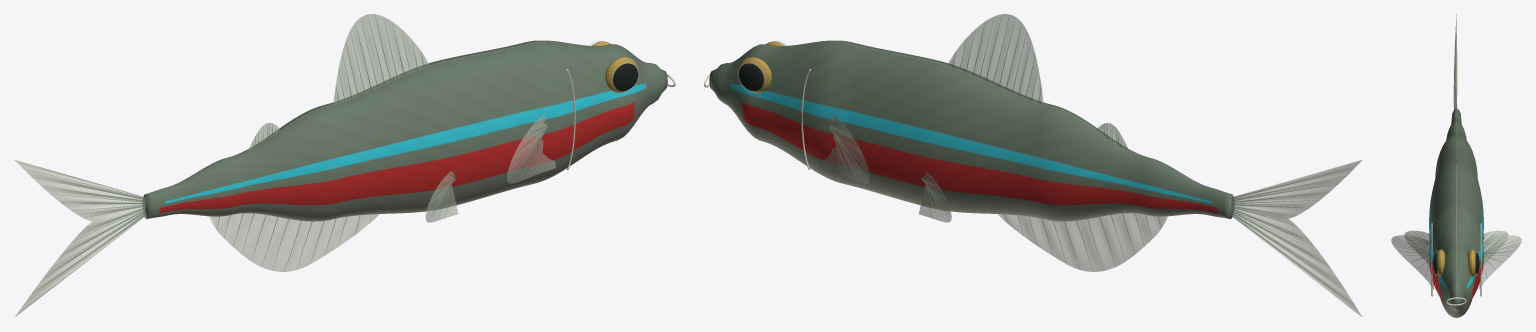
Rendered from cardinal-desktop.glb.
3 renders of one model, left to right at view 1: azimuth 30°, elevation 25°; view 2: azimuth 150°, elevation 25°; view 3: azimuth 270°, elevation 25°, orthographic. The views are drawn at different scales.
Parts seen in each view (by area): view 1: skin, tail, anal, dorsal, dorsal-ray, pectoral-left, pelvic-left, eye-pupil--1, eye-iris--1; view 2: skin, tail, anal, dorsal, dorsal-ray, pectoral-left, pelvic-left, eye-pupil--1, eye-iris--1; view 3: skin, pectoral-left, pelvic-left, dorsal-ray, eye-iris--1, operculum, tail, eye-pupil--1, dorsal.
Part boxes in pixels (x1,y1,x2,y2): skin: (143,40,667,221); tail: (15,160,145,316); anal: (209,213,379,271); dorsal: (248,14,429,150); dorsal-ray: (27,15,548,302); pectoral-left: (507,114,555,183); pelvic-left: (425,171,457,222); eye-pupil--1: (613,63,638,90); eye-iris--1: (592,41,638,92); skin: (709,40,1234,221); tail: (1231,160,1361,316); anal: (998,213,1167,271); dorsal: (948,14,1128,149); dorsal-ray: (828,14,1352,303); pectoral-left: (821,114,869,183); pelvic-left: (919,171,951,222); eye-pupil--1: (739,63,763,90); eye-iris--1: (738,41,784,92); skin: (1429,109,1483,317); pectoral-left: (1391,235,1521,289); pelvic-left: (1404,230,1508,264); dorsal-ray: (1395,26,1518,271); eye-iris--1: (1437,249,1475,276); operculum: (1431,223,1481,305); tail: (1453,14,1457,109); eye-pupil--1: (1433,252,1479,273); dorsal: (1455,95,1457,165).
Size of the model in its own units: 0.5972 by 0.2077 by 0.1425.
Materials: 11 (1 with a texture image).
